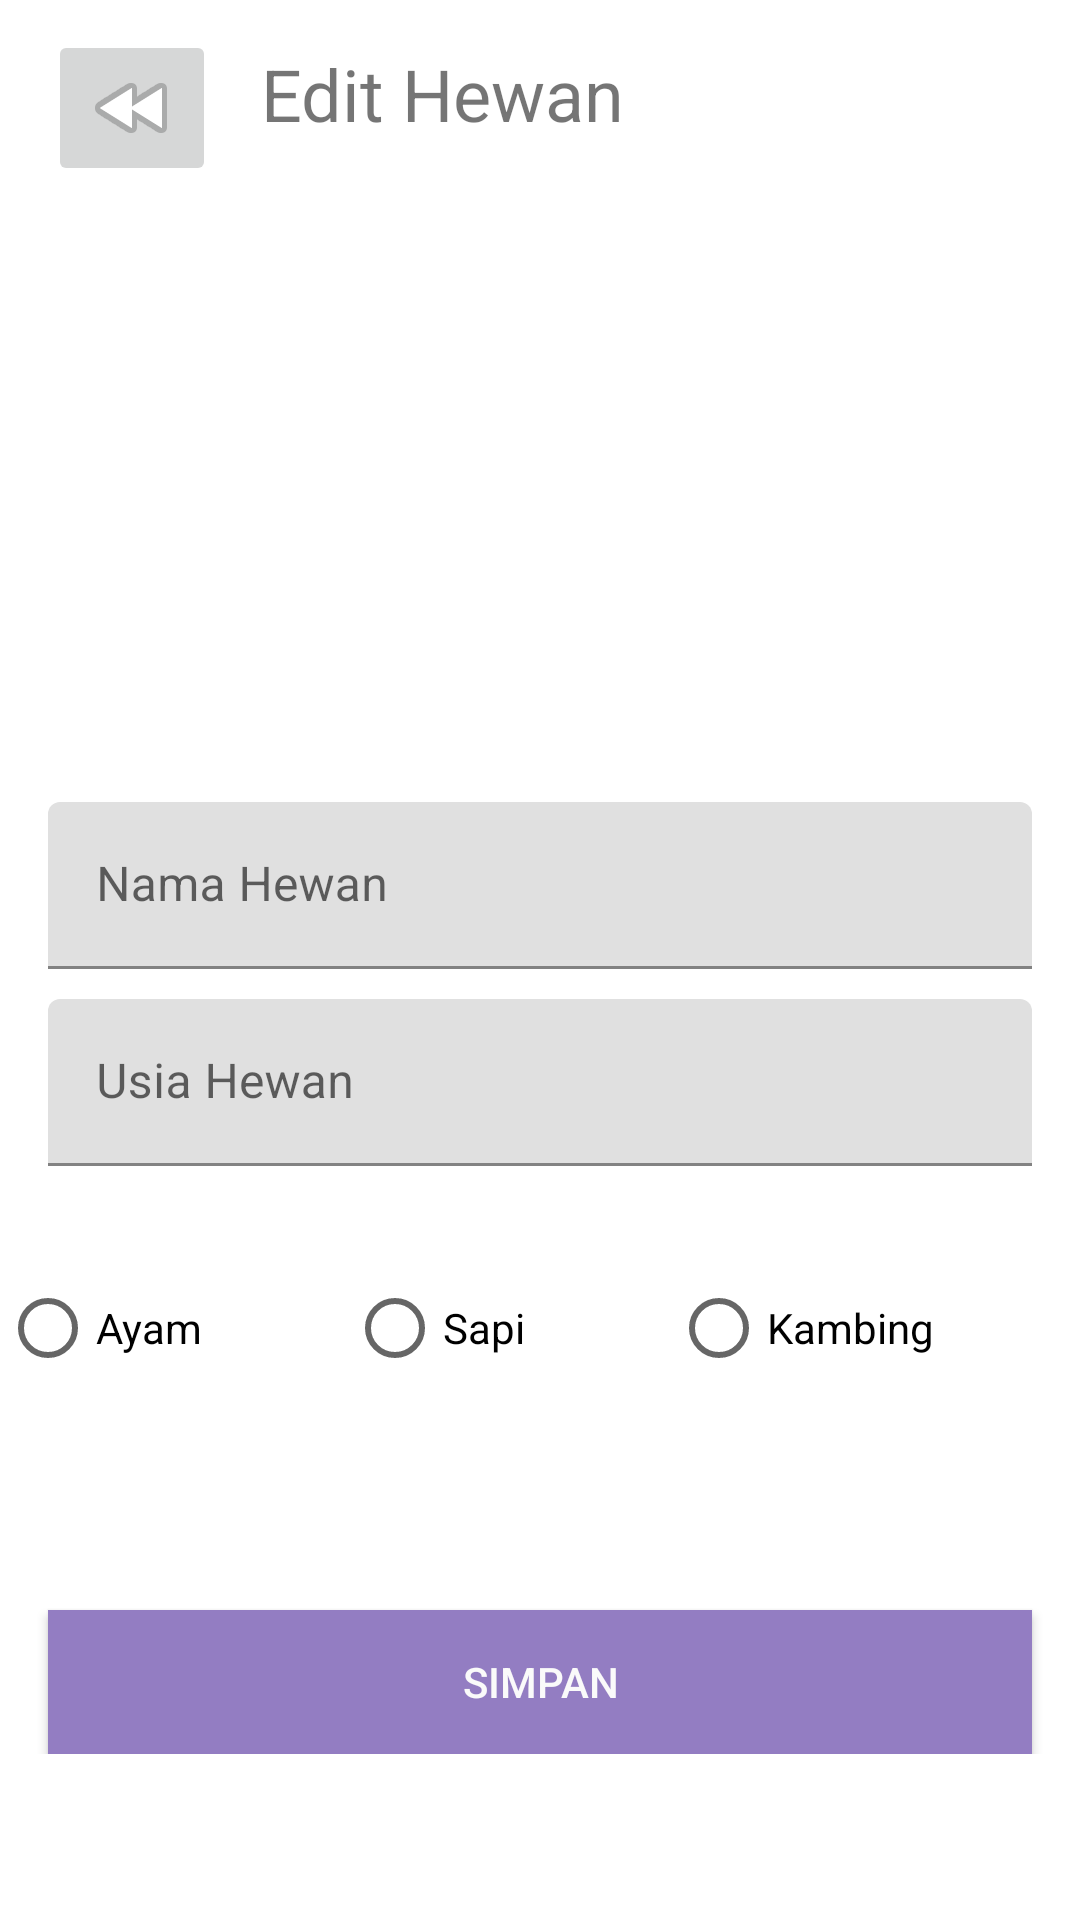

Where icons sit on this 1080x1920 app screen, as detection(x1, y1, x2, y2):
rew: detection(60, 48, 204, 168)
